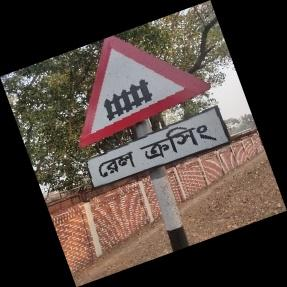Rail-crossing: (71, 31, 233, 193)
